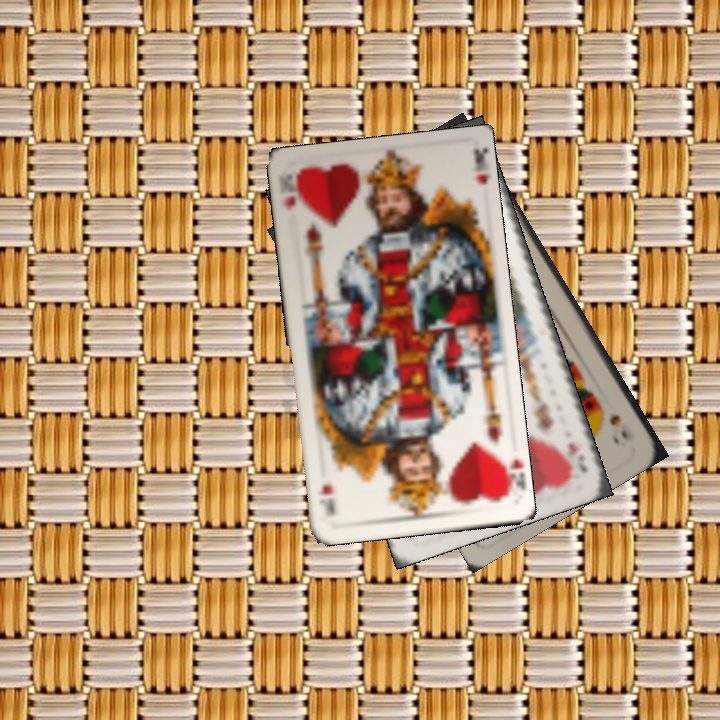HK: (494, 452, 525, 499), (562, 439, 591, 475), (278, 172, 299, 213)
S10: (605, 410, 637, 444)
